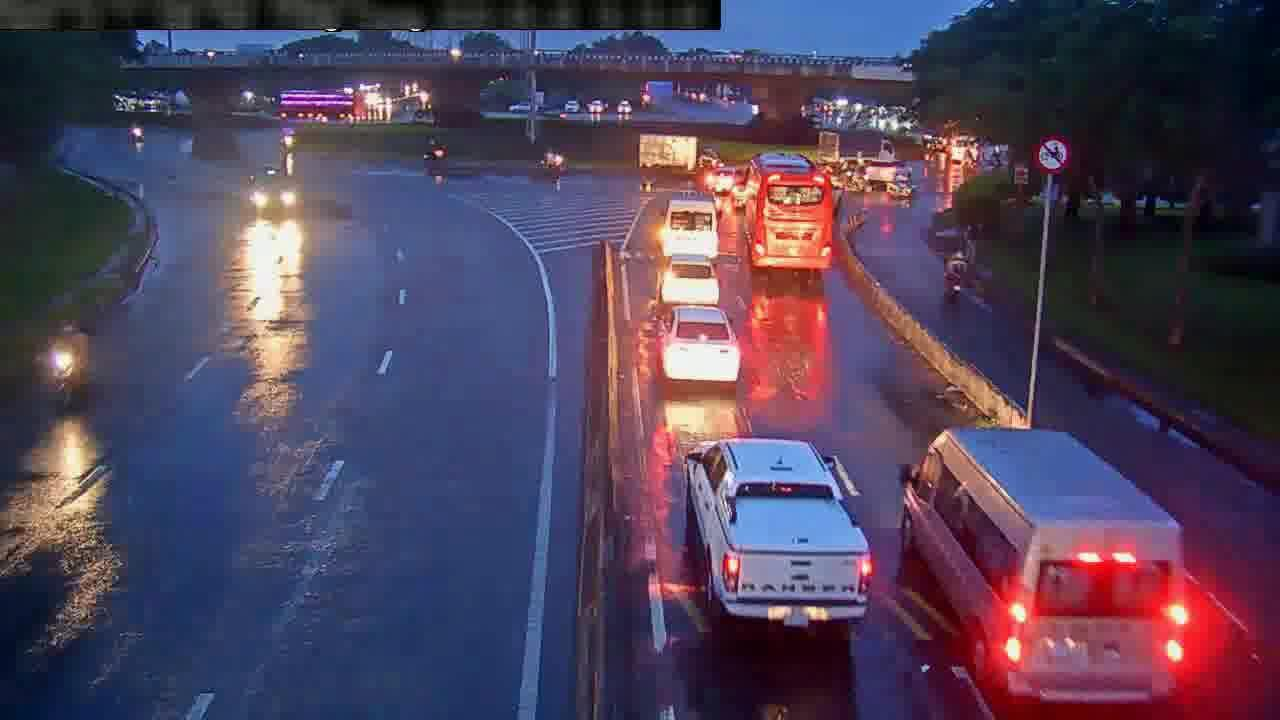14: (900, 422, 1188, 703), (744, 150, 834, 282), (657, 192, 721, 261)
8: (634, 127, 720, 176)
container: (686, 436, 876, 629), (657, 302, 742, 385), (660, 250, 719, 306)
motorbike: (47, 320, 91, 408), (941, 247, 970, 308)
